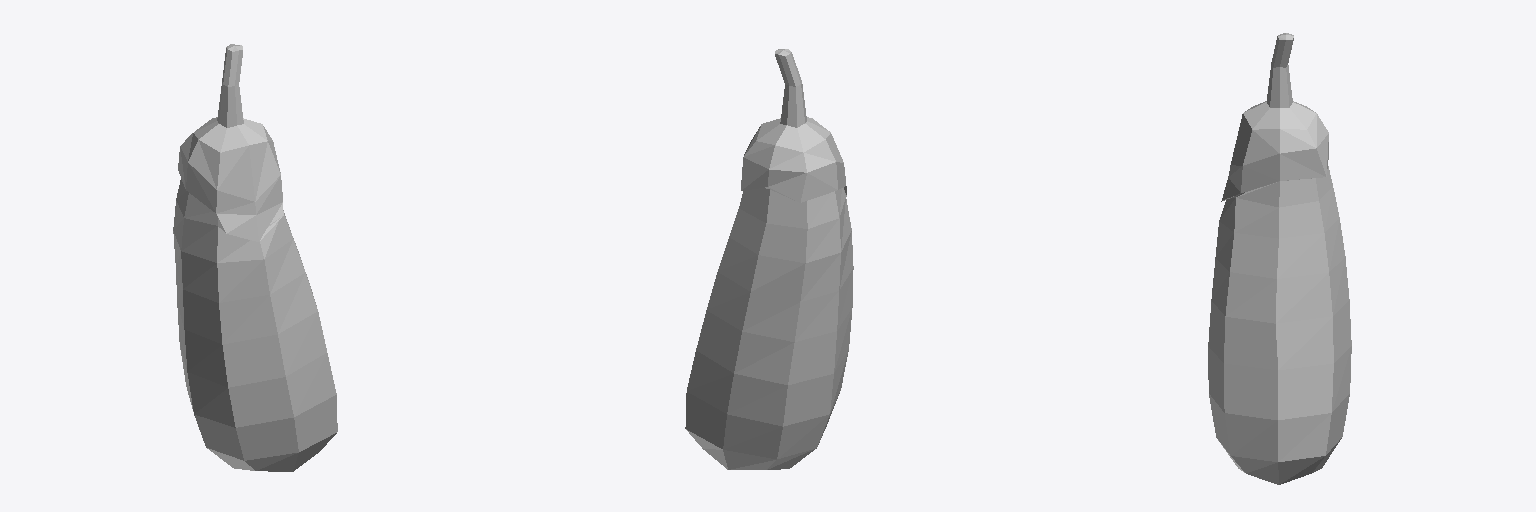
File: eggplant.obj
The picture shows the model from 3 angles: view 1: azimuth 30°, elevation 25°; view 2: azimuth 150°, elevation 25°; view 3: azimuth 270°, elevation 25°; orthographic projection.
Parts seen in each view (by area): view 1: pCube1; view 2: pCube1; view 3: pCube1.
Part boxes in pixels (left/top/right/bottom): pCube1: left=173, top=44, right=337, bottom=471; pCube1: left=685, top=49, right=853, bottom=469; pCube1: left=1208, top=33, right=1351, bottom=484.
Bounding box in the file's own units: 3.19 × 8.77 × 2.68.